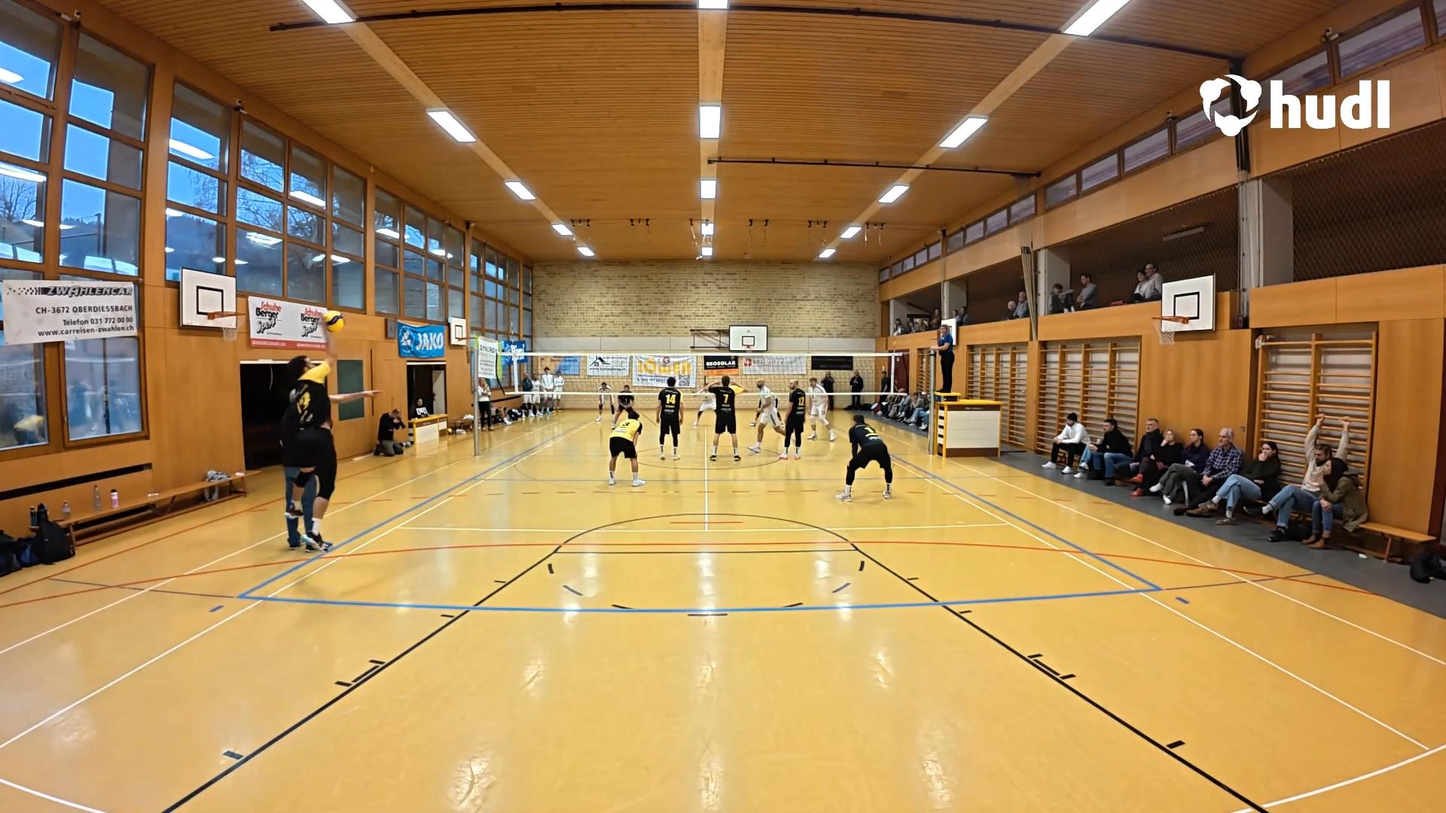battuta: (277, 352, 341, 556)
